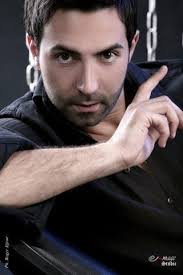middle_eastern_male: (38, 2, 132, 124)
